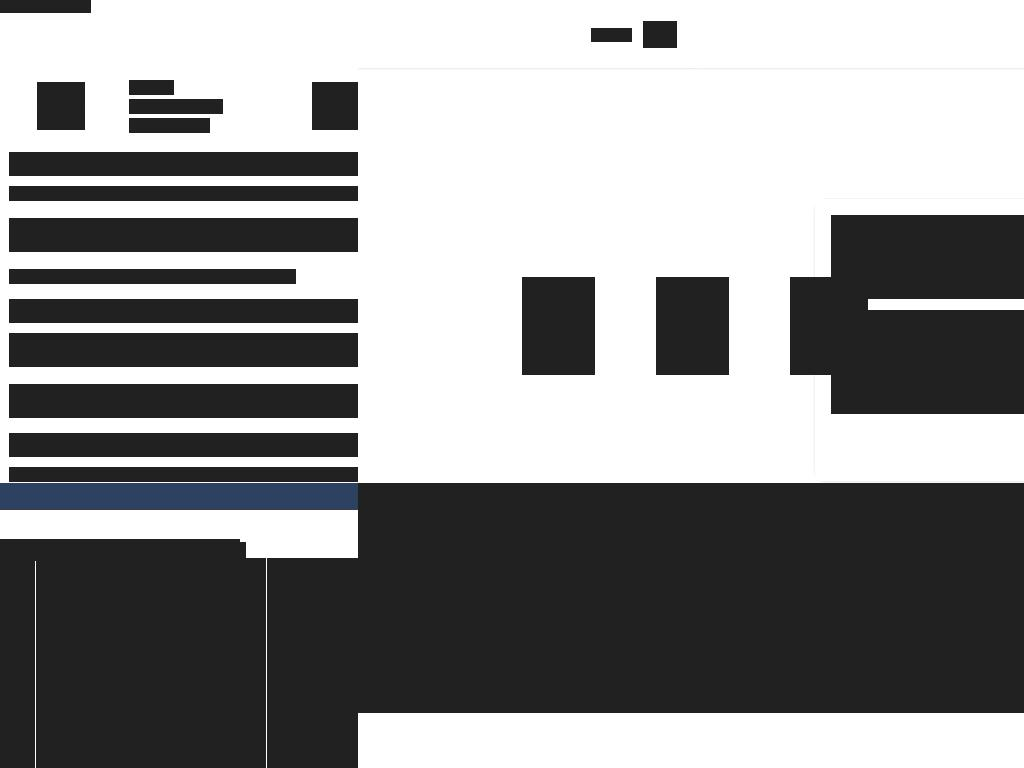button: (36, 558, 266, 768), (267, 558, 358, 768), (790, 277, 868, 375), (522, 277, 595, 375), (656, 277, 729, 375), (643, 21, 677, 48)
field: (358, 545, 827, 605)
heading: (358, 483, 1024, 525), (9, 152, 358, 176), (9, 299, 358, 323), (9, 433, 358, 457), (0, 0, 91, 13)
image: (358, 483, 1024, 713), (36, 558, 266, 768), (267, 558, 358, 768), (831, 215, 1024, 263), (522, 277, 593, 347), (656, 277, 727, 347), (790, 277, 861, 347), (37, 82, 85, 130), (312, 82, 358, 130), (648, 27, 672, 43)
link: (0, 539, 240, 561), (195, 269, 291, 284), (136, 99, 223, 114), (137, 118, 210, 133), (872, 354, 939, 370), (145, 467, 191, 482), (34, 333, 73, 348), (137, 80, 174, 95)
text: (9, 218, 358, 252), (9, 333, 358, 367), (9, 384, 358, 418), (831, 310, 1024, 370), (831, 354, 1024, 392), (831, 376, 1024, 414), (831, 263, 1024, 299), (9, 186, 358, 201), (9, 218, 358, 233), (73, 333, 358, 348), (9, 269, 196, 284), (191, 467, 358, 482), (9, 467, 146, 482), (790, 357, 868, 375), (522, 357, 595, 375), (656, 357, 729, 375), (167, 542, 246, 558), (591, 28, 632, 42), (9, 333, 35, 348), (129, 80, 137, 95), (129, 99, 137, 114), (129, 118, 137, 133), (291, 269, 296, 284)
